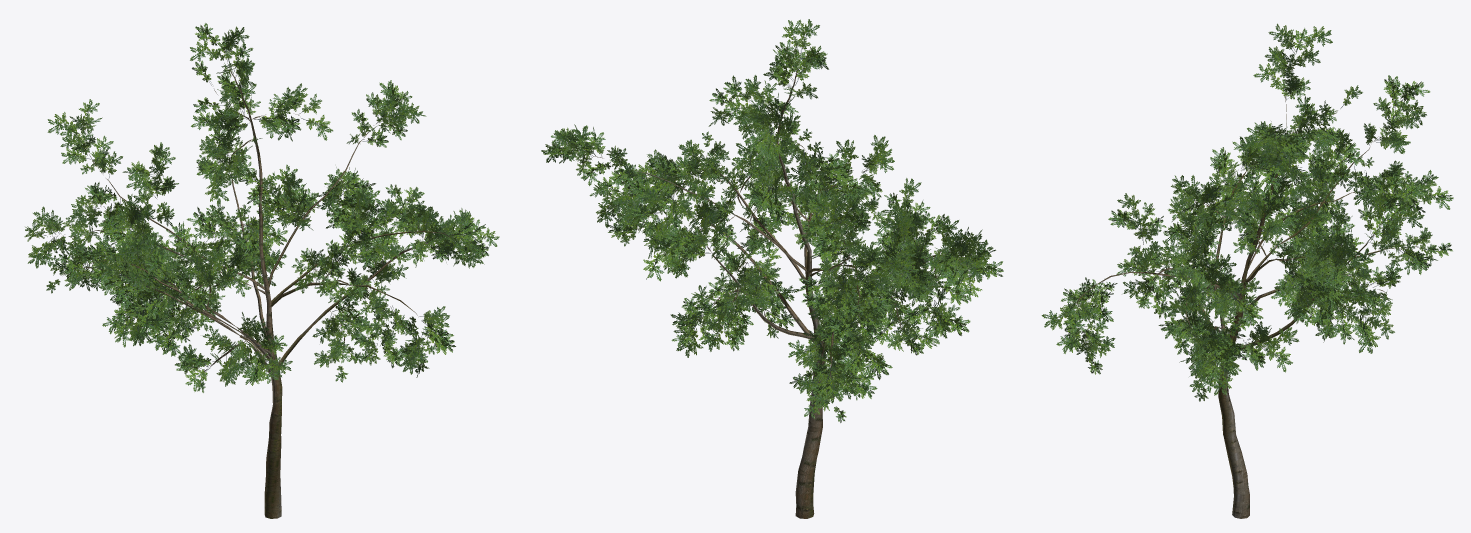
File: medium-c.glb
3 renders of one model, left to right at view 1: azimuth 30°, elevation 25°; view 2: azimuth 150°, elevation 25°; view 3: azimuth 270°, elevation 25°, orthographic. The views are drawn at different scales.
Visible parts, largest first — view 1: medium-c; view 2: medium-c; view 3: medium-c.
Boxes of the visible parts, x1,y1,x2,y2 form: medium-c: [24, 23, 499, 518]; medium-c: [541, 19, 1003, 518]; medium-c: [1041, 23, 1453, 518].
Bounding box in the file's own units: 4.36 × 4.88 × 3.81.
Materials: 2 (2 with a texture image).
